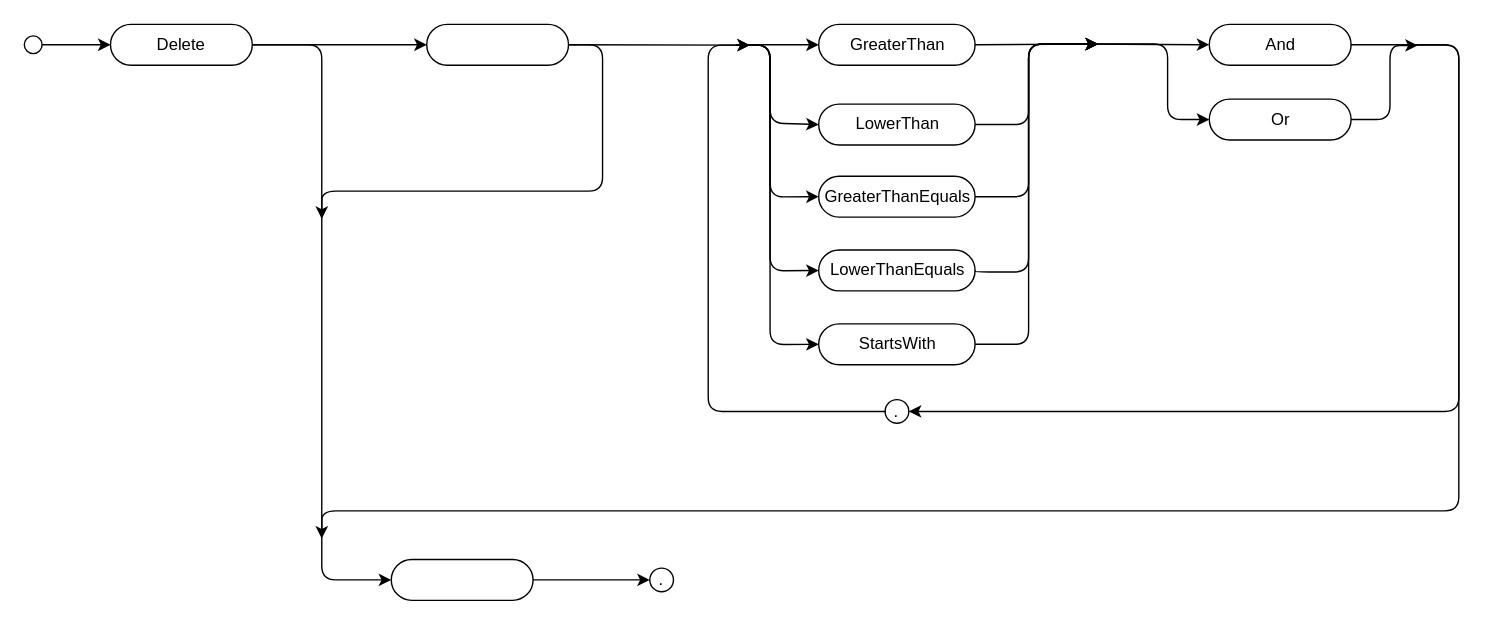
Some shapes in this 1494 by 626 pixel diagram are drawn without their labels. The shapes that lost their labels are listed below. From the top down, each one's box as (x1, y1, x2, y2) in pixels, then its label:
(425, 23, 569, 65): Where
(390, 558, 533, 600): Execute
